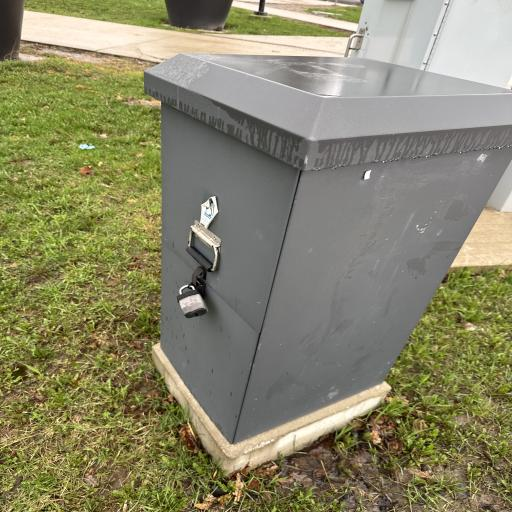Electrical Box: (142, 51, 512, 445)
